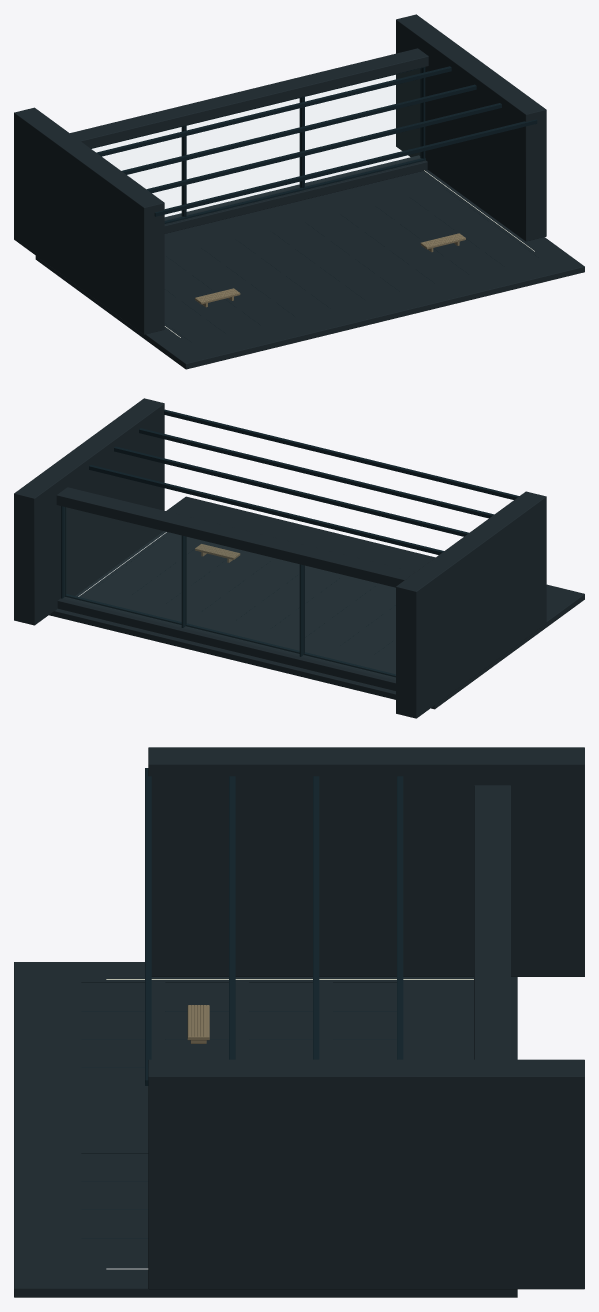
The model's file is gallery.glb.
3 renders of one model, top to bottom at view 1: azimuth 30°, elevation 25°; view 2: azimuth 150°, elevation 25°; view 3: azimuth 270°, elevation 25°, orthographic. The views are drawn at different scales.
Visible parts, largest first — view 1: Pelagic.gallery.Stone, Pelagic.gallery.Metal, Pelagic.gallery.Seat; view 2: Pelagic.gallery.Stone, Pelagic.gallery.Metal; view 3: Pelagic.gallery.Stone, Pelagic.gallery.Metal, Pelagic.gallery.Seat.
Part boxes in pixels (left/top/right/bottom): Pelagic.gallery.Stone: left=14, top=14, right=584, bottom=369; Pelagic.gallery.Metal: left=91, top=66, right=538, bottom=342; Pelagic.gallery.Seat: left=195, top=233, right=465, bottom=307; Pelagic.gallery.Stone: left=14, top=398, right=584, bottom=718; Pelagic.gallery.Metal: left=61, top=409, right=519, bottom=677; Pelagic.gallery.Stone: left=14, top=747, right=584, bottom=1297; Pelagic.gallery.Metal: left=81, top=768, right=403, bottom=1238; Pelagic.gallery.Seat: left=187, top=1005, right=209, bottom=1043.
Bounding box in the file's own units: 46.4 × 14.64 × 34.
